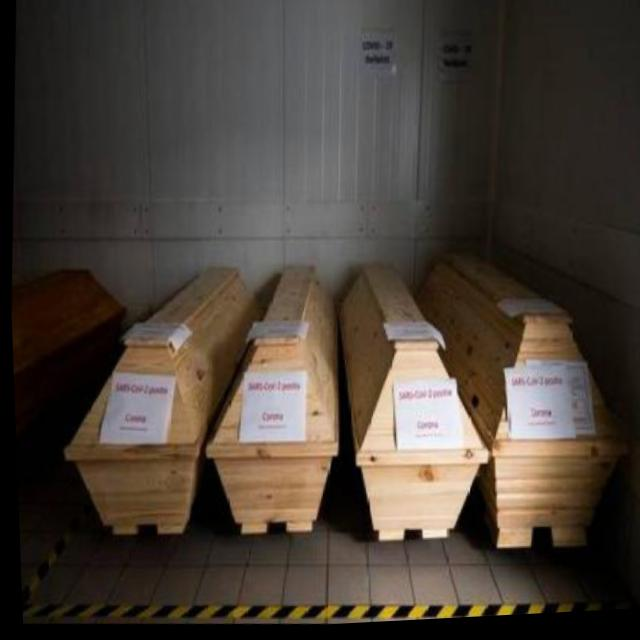box: (419, 160, 640, 610), (302, 201, 504, 596), (48, 208, 245, 587), (187, 227, 348, 565)
